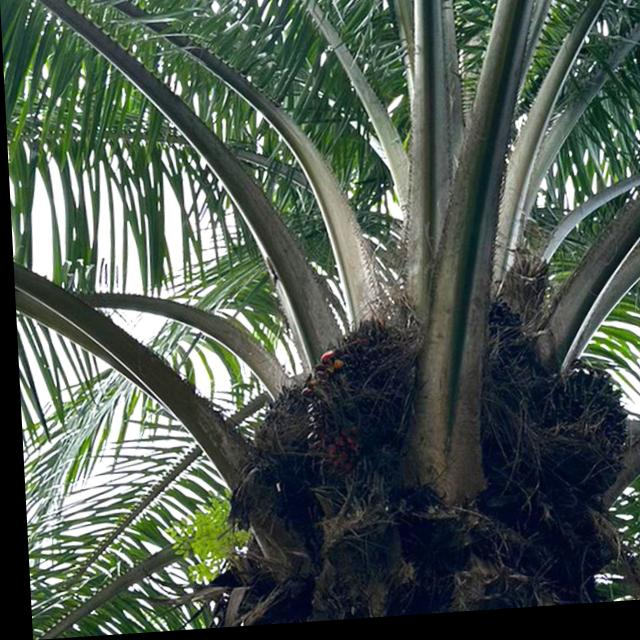ripe: (291, 314, 428, 482), (521, 367, 633, 513)
